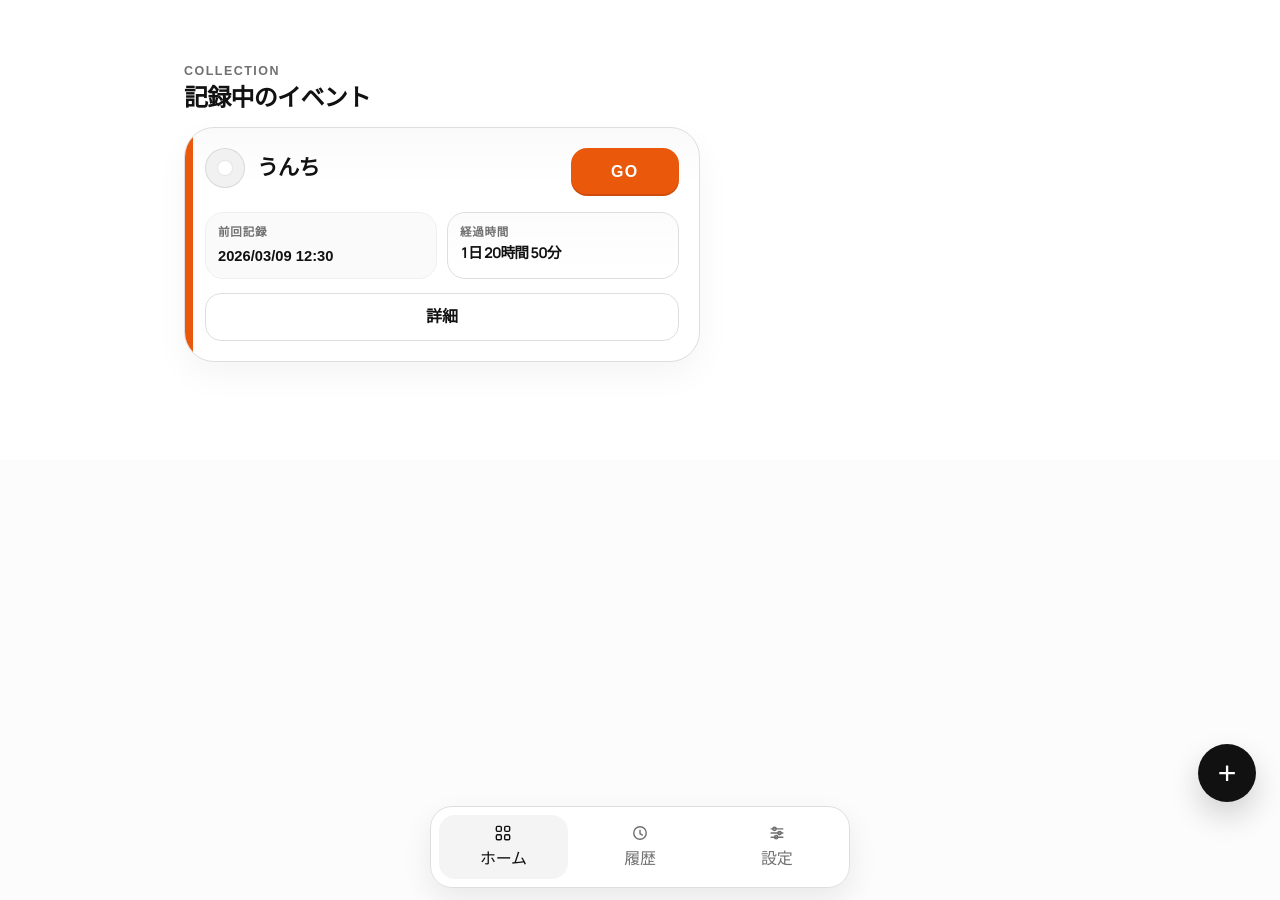
Test: App › exports all event data as JSON and shows a success message
The image size is (1280, 900).
Click the button "設定".
click(777, 847)  # box [712,815,841,879]
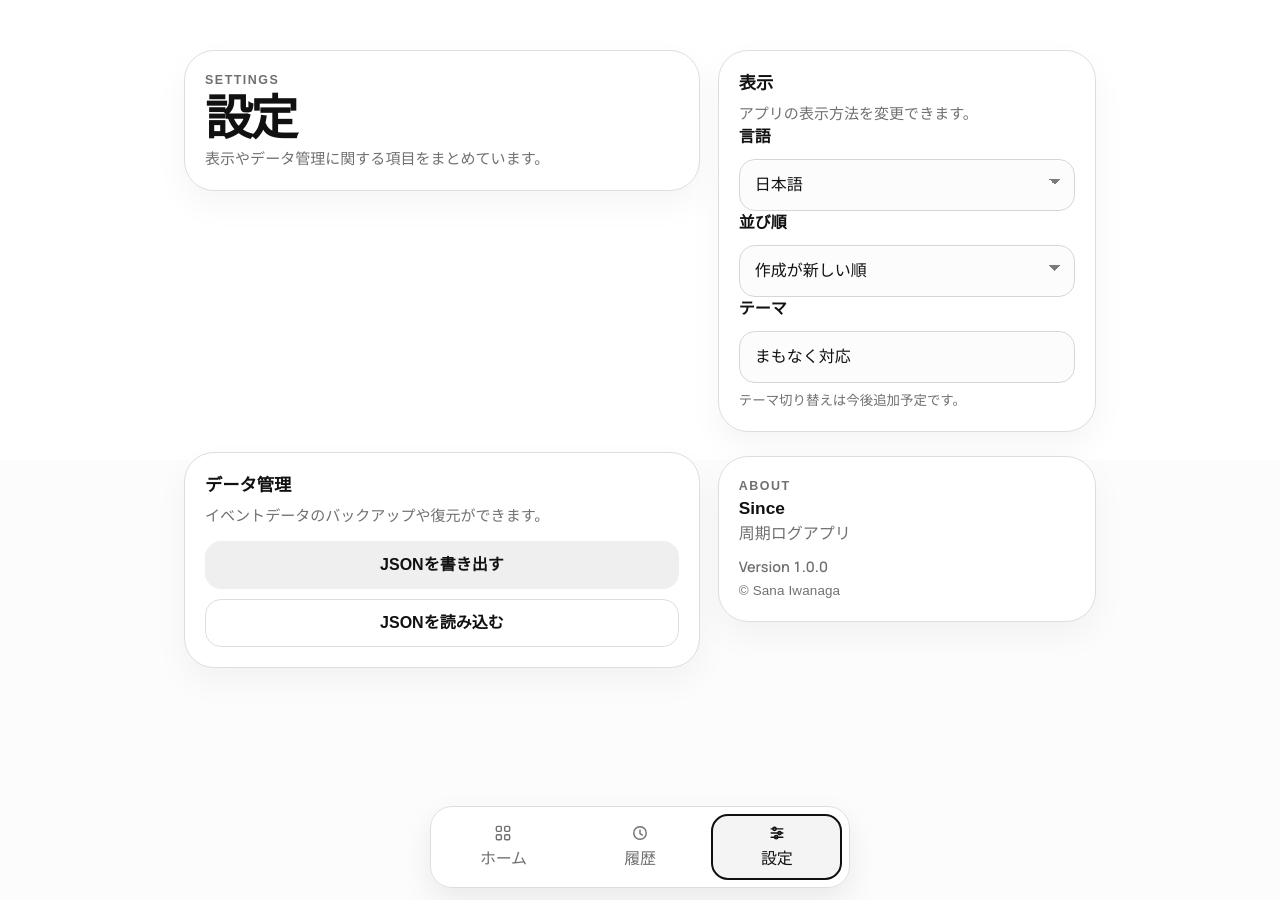
Click the button "JSONを書き出す".
click(442, 566)  # box [205,542,679,590]
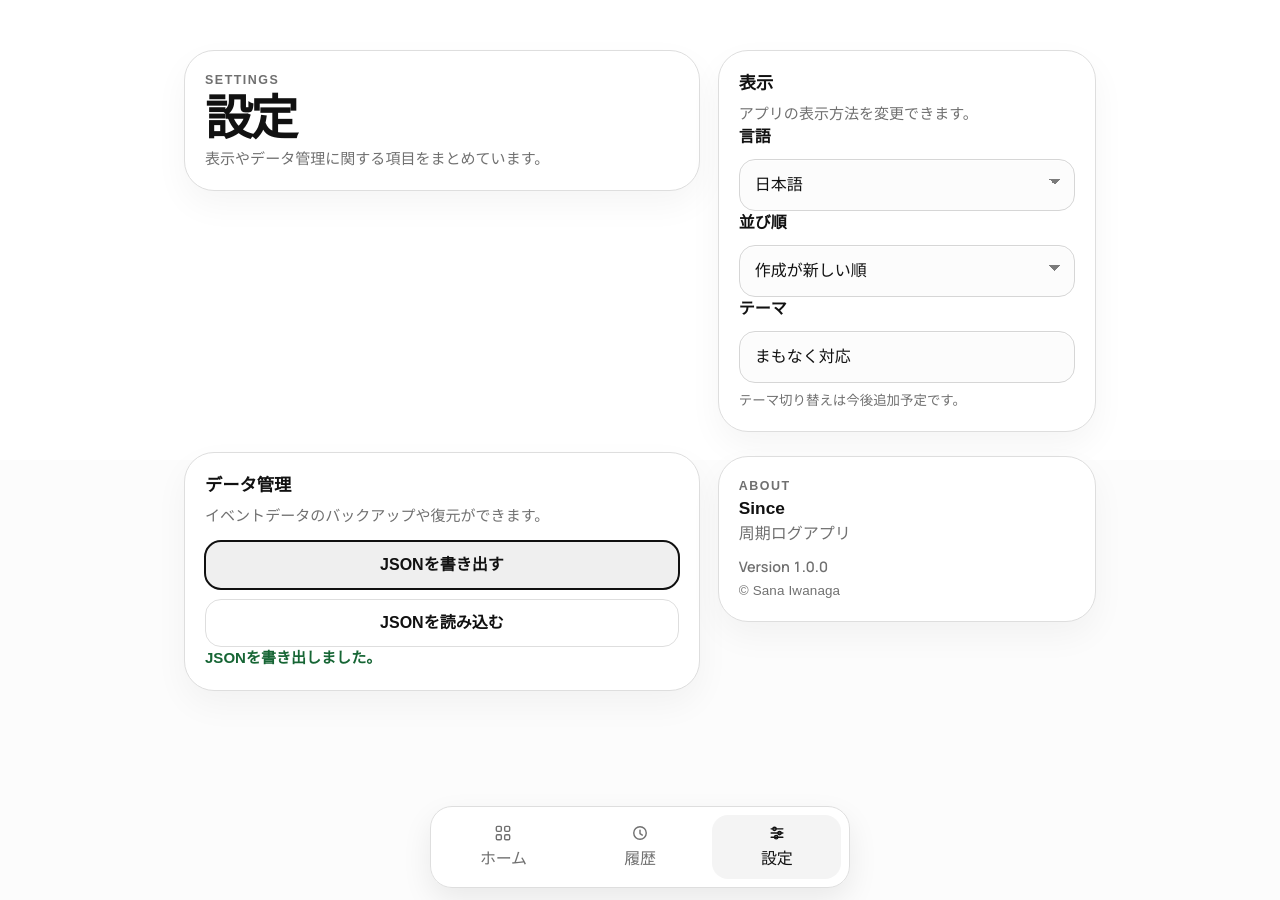
expect the text "JSONを書き出しました。" is shown: met, box [205,650,381,666]
